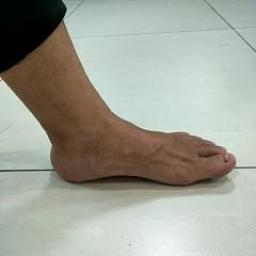Medial View -Left Foot-: (24, 89, 246, 211)
